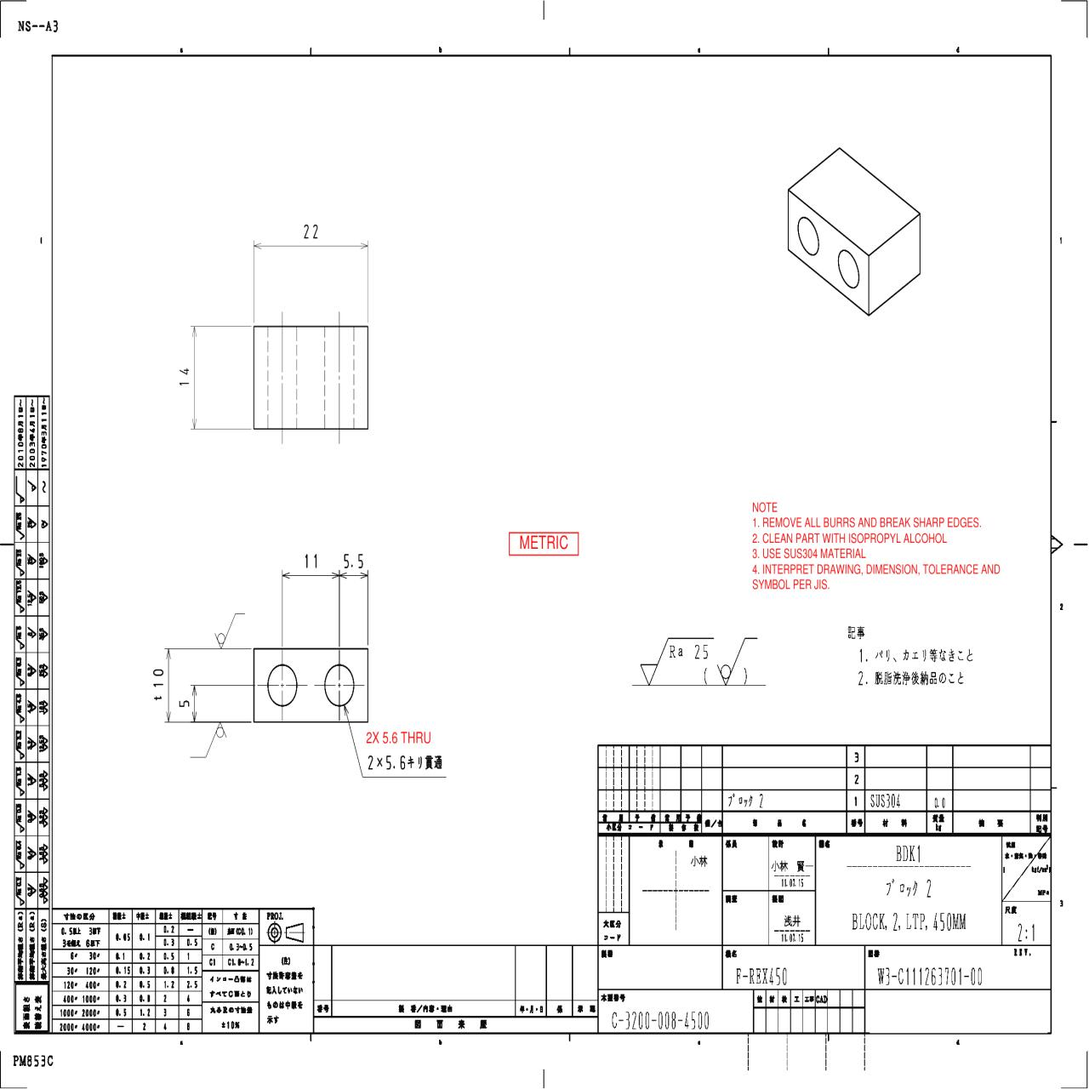basic_dimension: (343, 553, 364, 570), (303, 223, 319, 239), (305, 553, 318, 570), (179, 368, 190, 386), (178, 699, 190, 709)
dimension_thickness_symbol: (153, 669, 165, 704)
surface_finish_symbol: (190, 721, 227, 758), (214, 613, 245, 650)
